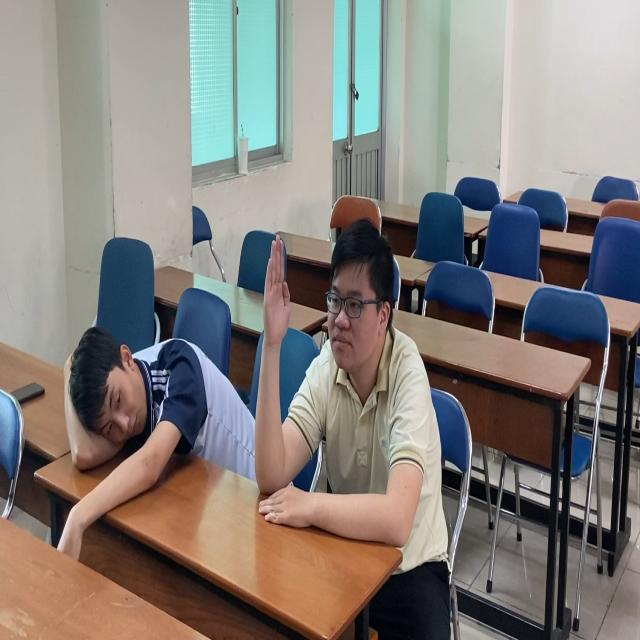raise_hand: (241, 199, 457, 575)
sleep: (35, 321, 239, 500)
